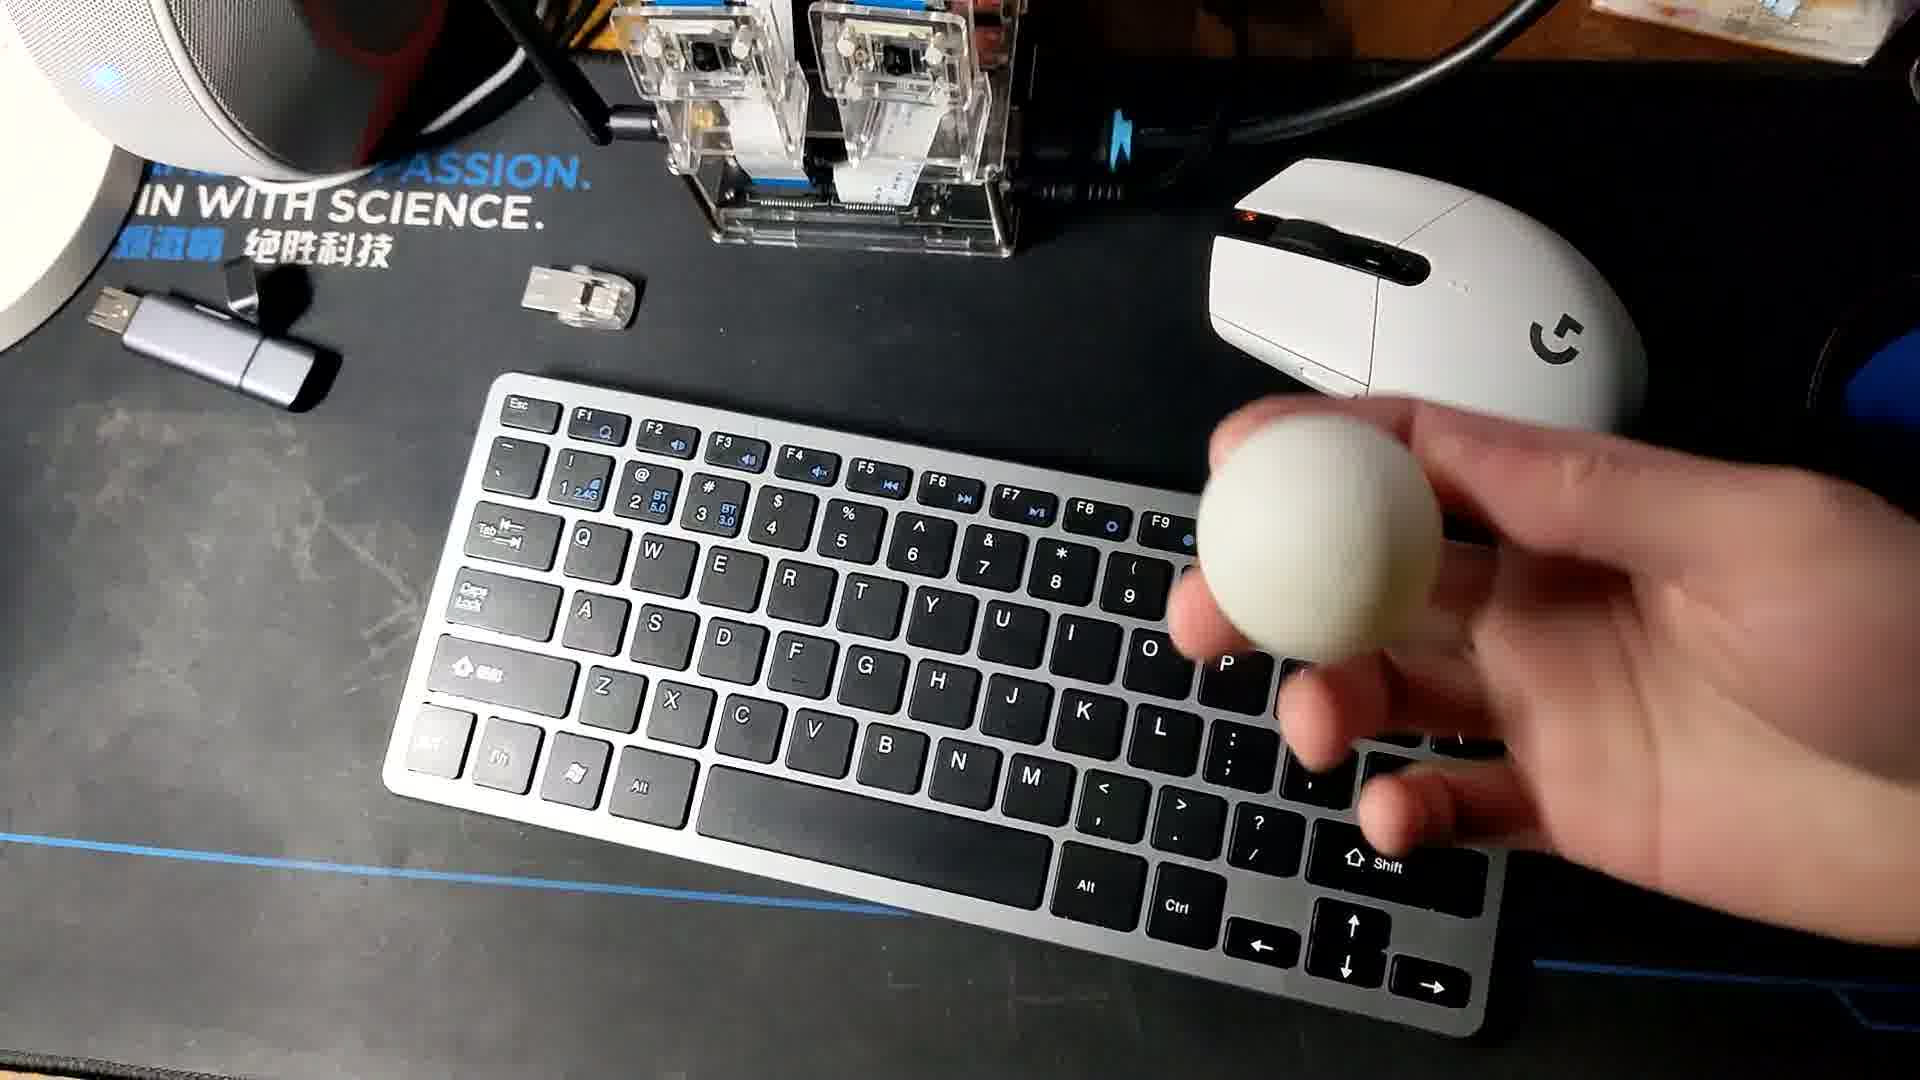Ball: (1203, 417, 1447, 665)
